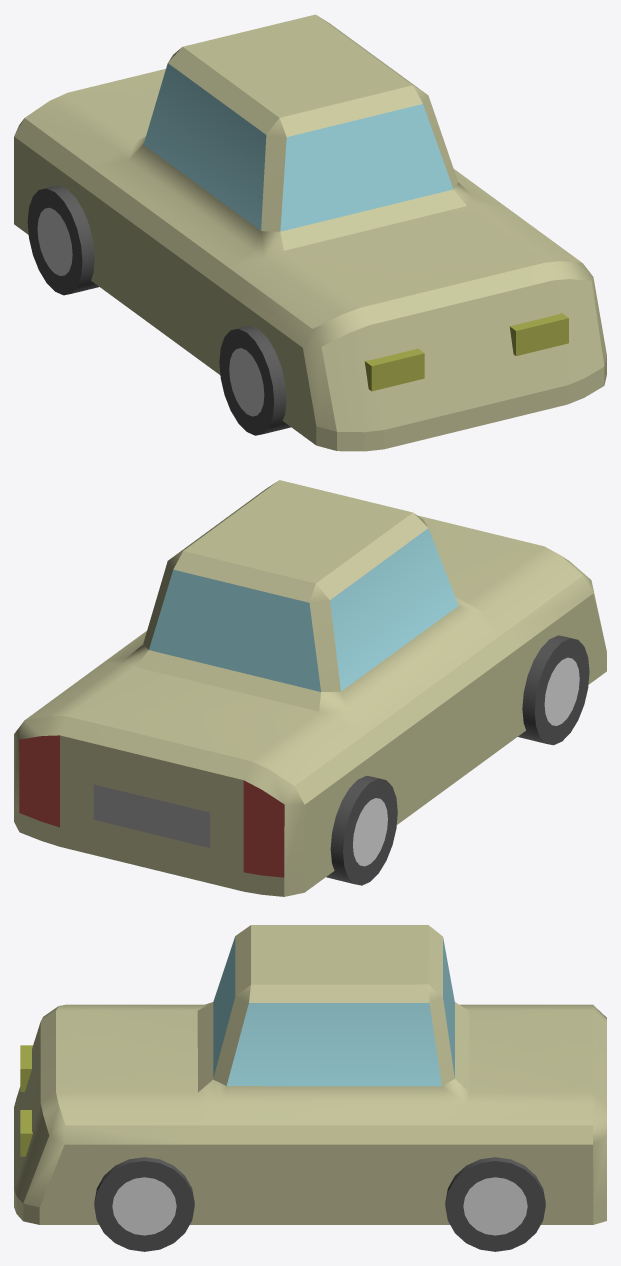
File: Car_03.fbx
The picture shows the model from 3 angles, top to bottom: view 1: azimuth 30°, elevation 25°; view 2: azimuth 150°, elevation 25°; view 3: azimuth 270°, elevation 25°; orthographic projection. The views are drawn at different scales.
Parts seen in each view (by area): view 1: pCube120, polySurface24, polySurface26, pCube128, pCube127; view 2: pCube120, polySurface24, polySurface26; view 3: pCube120, polySurface23, polySurface25, pCube127, pCube128.
Part boxes in pixels (x1=…): pCube120: x1=14, y1=14, x2=606, y2=451; polySurface24: x1=219, y1=326, x2=290, y2=435; polySurface26: x1=27, y1=185, x2=98, y2=295; pCube128: x1=364, y1=348, x2=424, y2=391; pCube127: x1=509, y1=313, x2=568, y2=355; pCube120: x1=14, y1=480, x2=606, y2=896; polySurface24: x1=518, y1=635, x2=589, y2=745; polySurface26: x1=326, y1=775, x2=397, y2=885; pCube120: x1=14, y1=925, x2=606, y2=1224; polySurface23: x1=94, y1=1157, x2=194, y2=1251; polySurface25: x1=445, y1=1157, x2=545, y2=1251; pCube127: x1=20, y1=1110, x2=32, y2=1156; pCube128: x1=20, y1=1045, x2=32, y2=1091.
Bounding box in the file's own units: 38.85 × 29.72 × 69.96.
